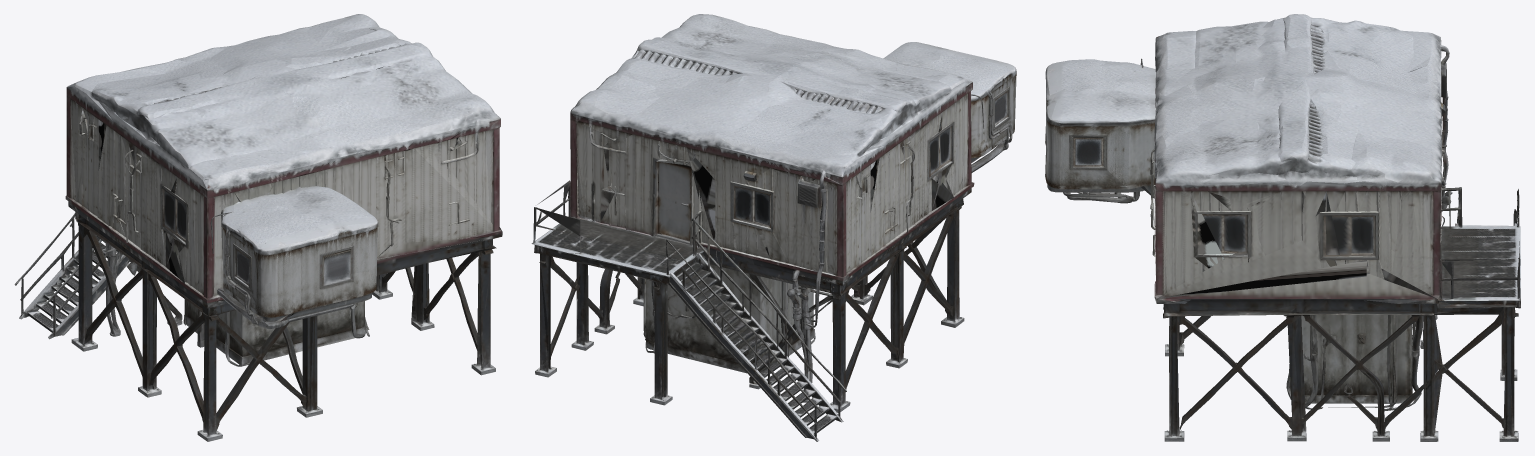
File: station.glb
The picture shows the model from 3 angles, left to right: view 1: azimuth 30°, elevation 25°; view 2: azimuth 150°, elevation 25°; view 3: azimuth 270°, elevation 25°; orthographic projection. The views are drawn at different scales.
Parts seen in each view (by area): view 1: output_unwrapped; view 2: output_unwrapped; view 3: output_unwrapped.
Part boxes in pixels (x1,y1,x2,y2): output_unwrapped: (14, 14, 502, 441); output_unwrapped: (531, 14, 1016, 441); output_unwrapped: (1045, 14, 1520, 441).
Size of the model in its own units: 1.46 by 1.27 by 1.9.
1 material, 1 textured.
